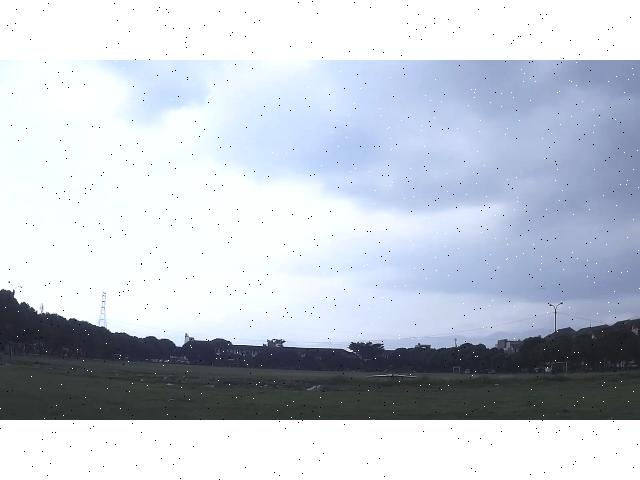Anti-Drone: (362, 359, 426, 389)
